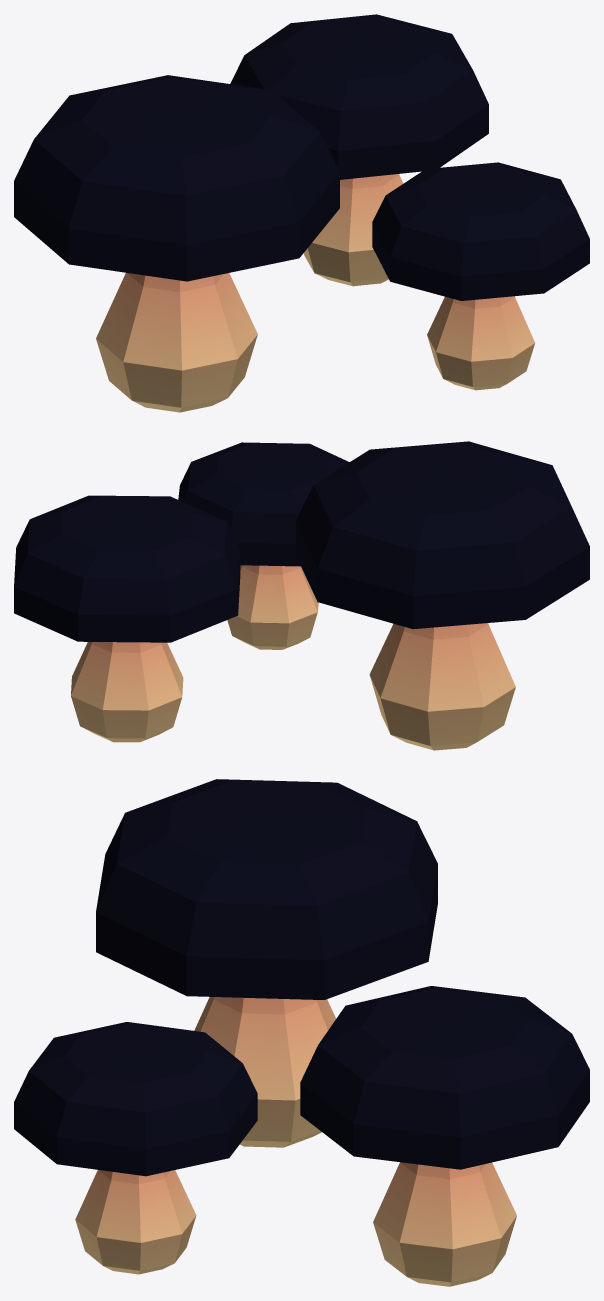
Rendered from Cavern_Mushroom_Bunch01.fbx.
3 views of the same model, one above another, from view 1: azimuth 30°, elevation 25°; view 2: azimuth 150°, elevation 25°; view 3: azimuth 270°, elevation 25° (orthographic). The views are drawn at different scales.
Visible parts, largest first — view 1: Cylinder.213; view 2: Cylinder.213; view 3: Cylinder.213.
Boxes of the visible parts, x1,y1,x2,y2 form: Cylinder.213: [14, 14, 589, 412]; Cylinder.213: [14, 441, 589, 750]; Cylinder.213: [14, 779, 589, 1286].
Bounding box in the file's own units: 29.62 × 15.44 × 26.21.
